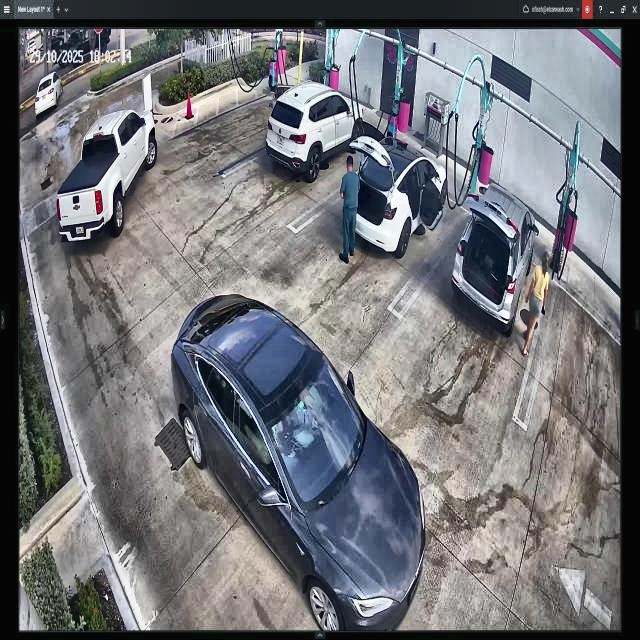Car: (165, 284, 426, 629), (345, 128, 450, 255), (454, 181, 536, 343), (60, 114, 156, 234), (271, 78, 363, 188)
